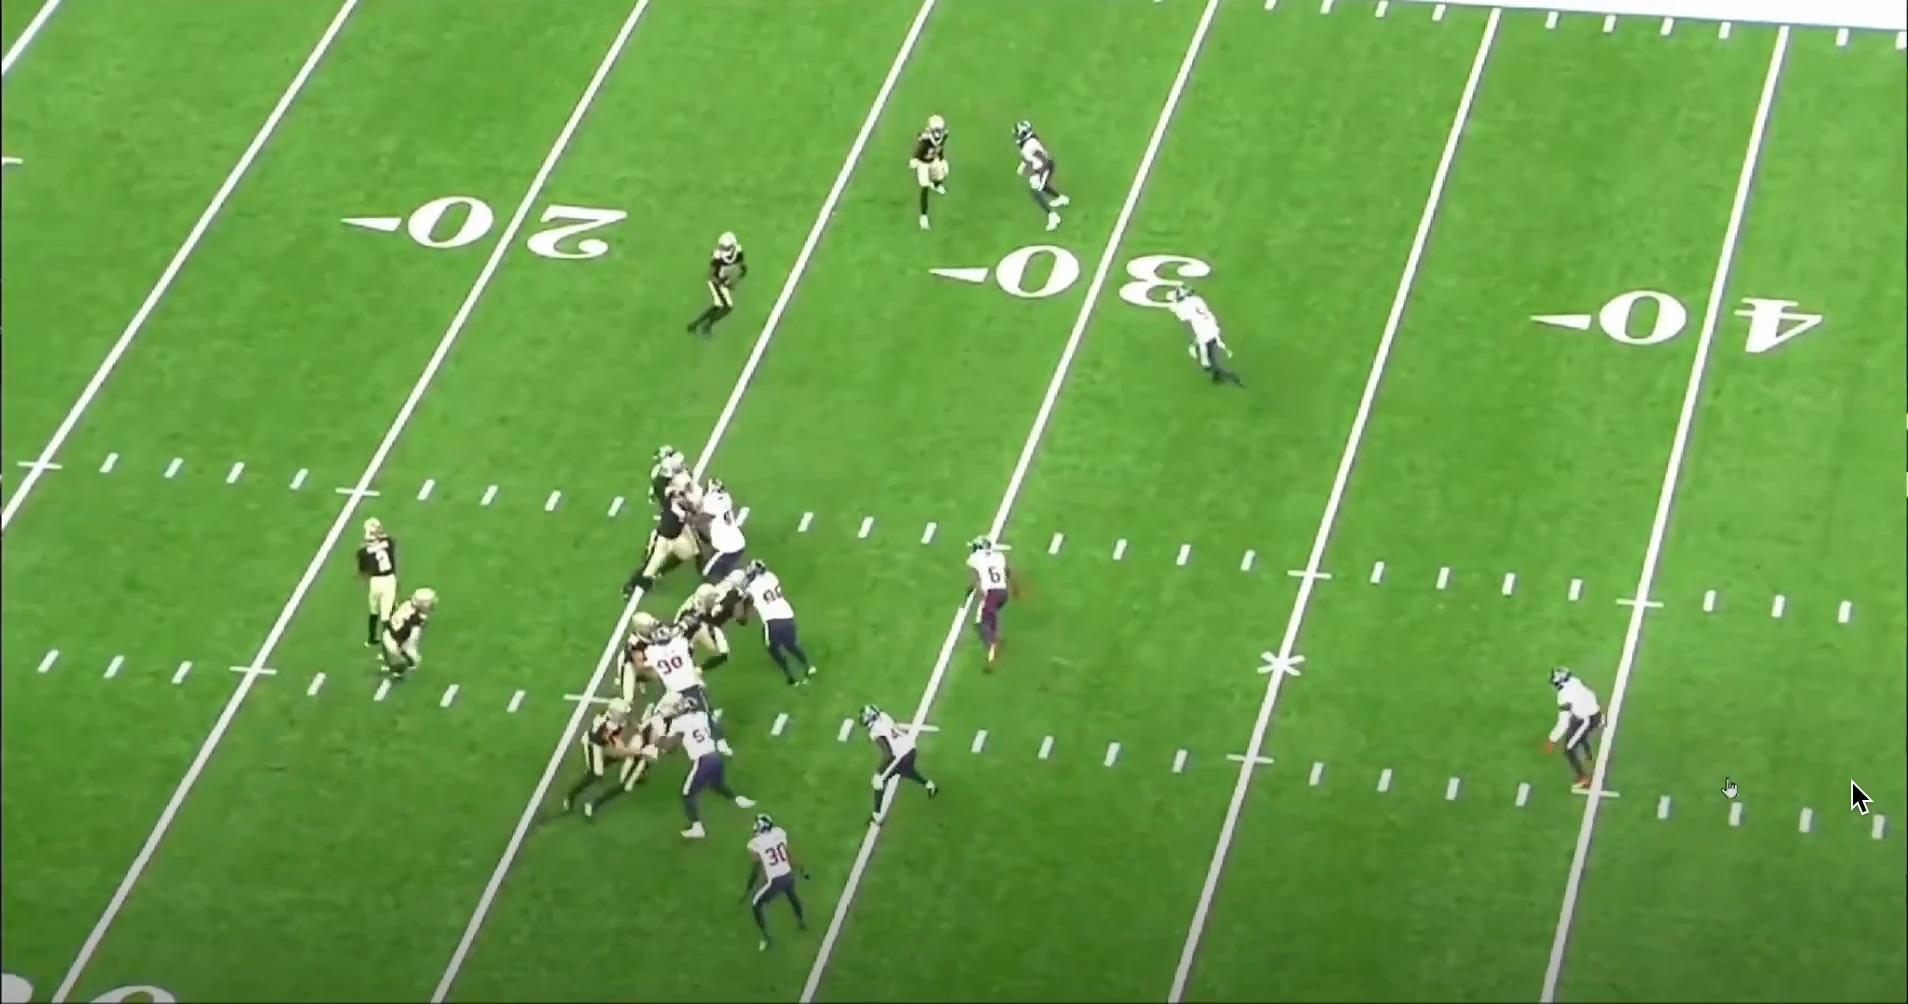defense: (674, 698, 770, 846), (648, 623, 743, 756), (858, 701, 944, 826), (743, 816, 819, 951), (741, 559, 821, 686), (955, 530, 1018, 674), (1170, 284, 1249, 396), (1544, 661, 1611, 791), (1011, 117, 1075, 235), (681, 481, 749, 589), (637, 443, 698, 528)
oline: (621, 478, 719, 601), (692, 567, 754, 683), (614, 610, 668, 704), (672, 580, 723, 639), (651, 456, 690, 507)
qb: (359, 514, 414, 657)
skill: (583, 688, 689, 820), (555, 694, 638, 822), (694, 227, 762, 342), (374, 581, 440, 693), (906, 109, 958, 235)
